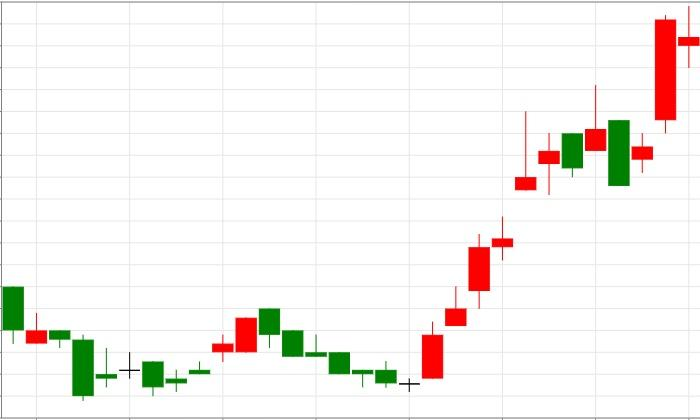shooting_star_fall: (421, 84, 606, 379)
